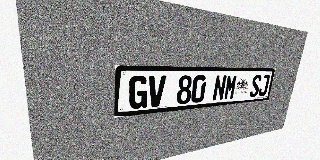0: (190, 75, 207, 103)
8: (176, 75, 193, 105)
G: (128, 76, 148, 109)
J: (258, 75, 270, 97)
M: (223, 75, 238, 100)
N: (212, 75, 227, 101)
S: (249, 75, 262, 97)
V: (147, 75, 166, 108)
